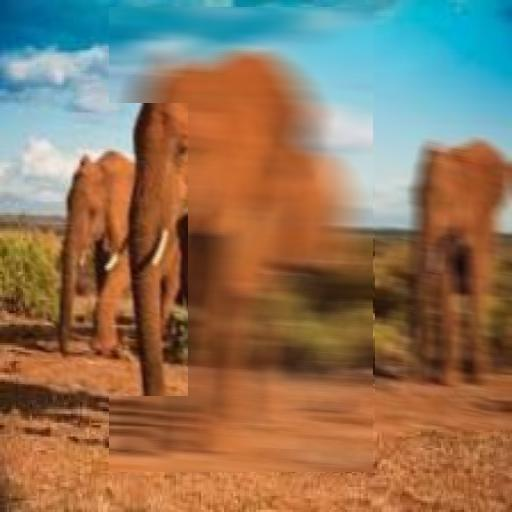Elephant: (110, 7, 374, 472), (375, 71, 512, 430), (25, 103, 188, 396)
